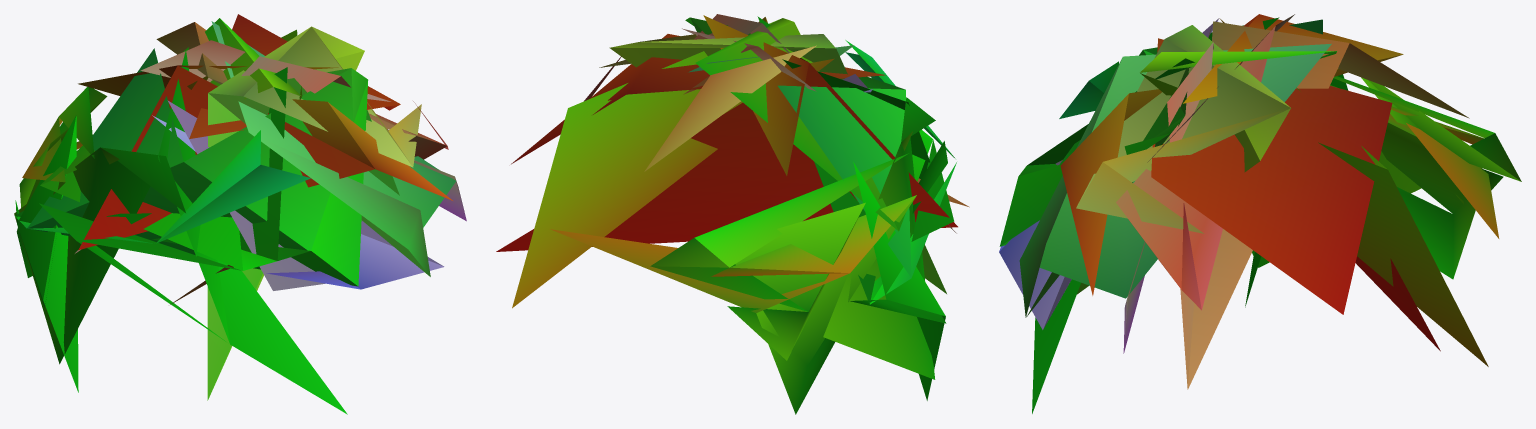
Rendered from zeometry-fragments-ruins-shard-cluster_v10.glb.
3 views of the same model, side by side, from view 1: azimuth 30°, elevation 25°; view 2: azimuth 150°, elevation 25°; view 3: azimuth 270°, elevation 25° (orthographic). The views are drawn at different scales.
Parts seen in each view (by area): view 1: Shard Cluster_v10; view 2: Shard Cluster_v10; view 3: Shard Cluster_v10.
Part boxes in pixels (x1,y1,x2,y2): Shard Cluster_v10: (14, 14, 466, 414); Shard Cluster_v10: (496, 14, 969, 414); Shard Cluster_v10: (999, 14, 1521, 413).
Size of the model in its own units: 0.5 by 0.381 by 0.4891.
